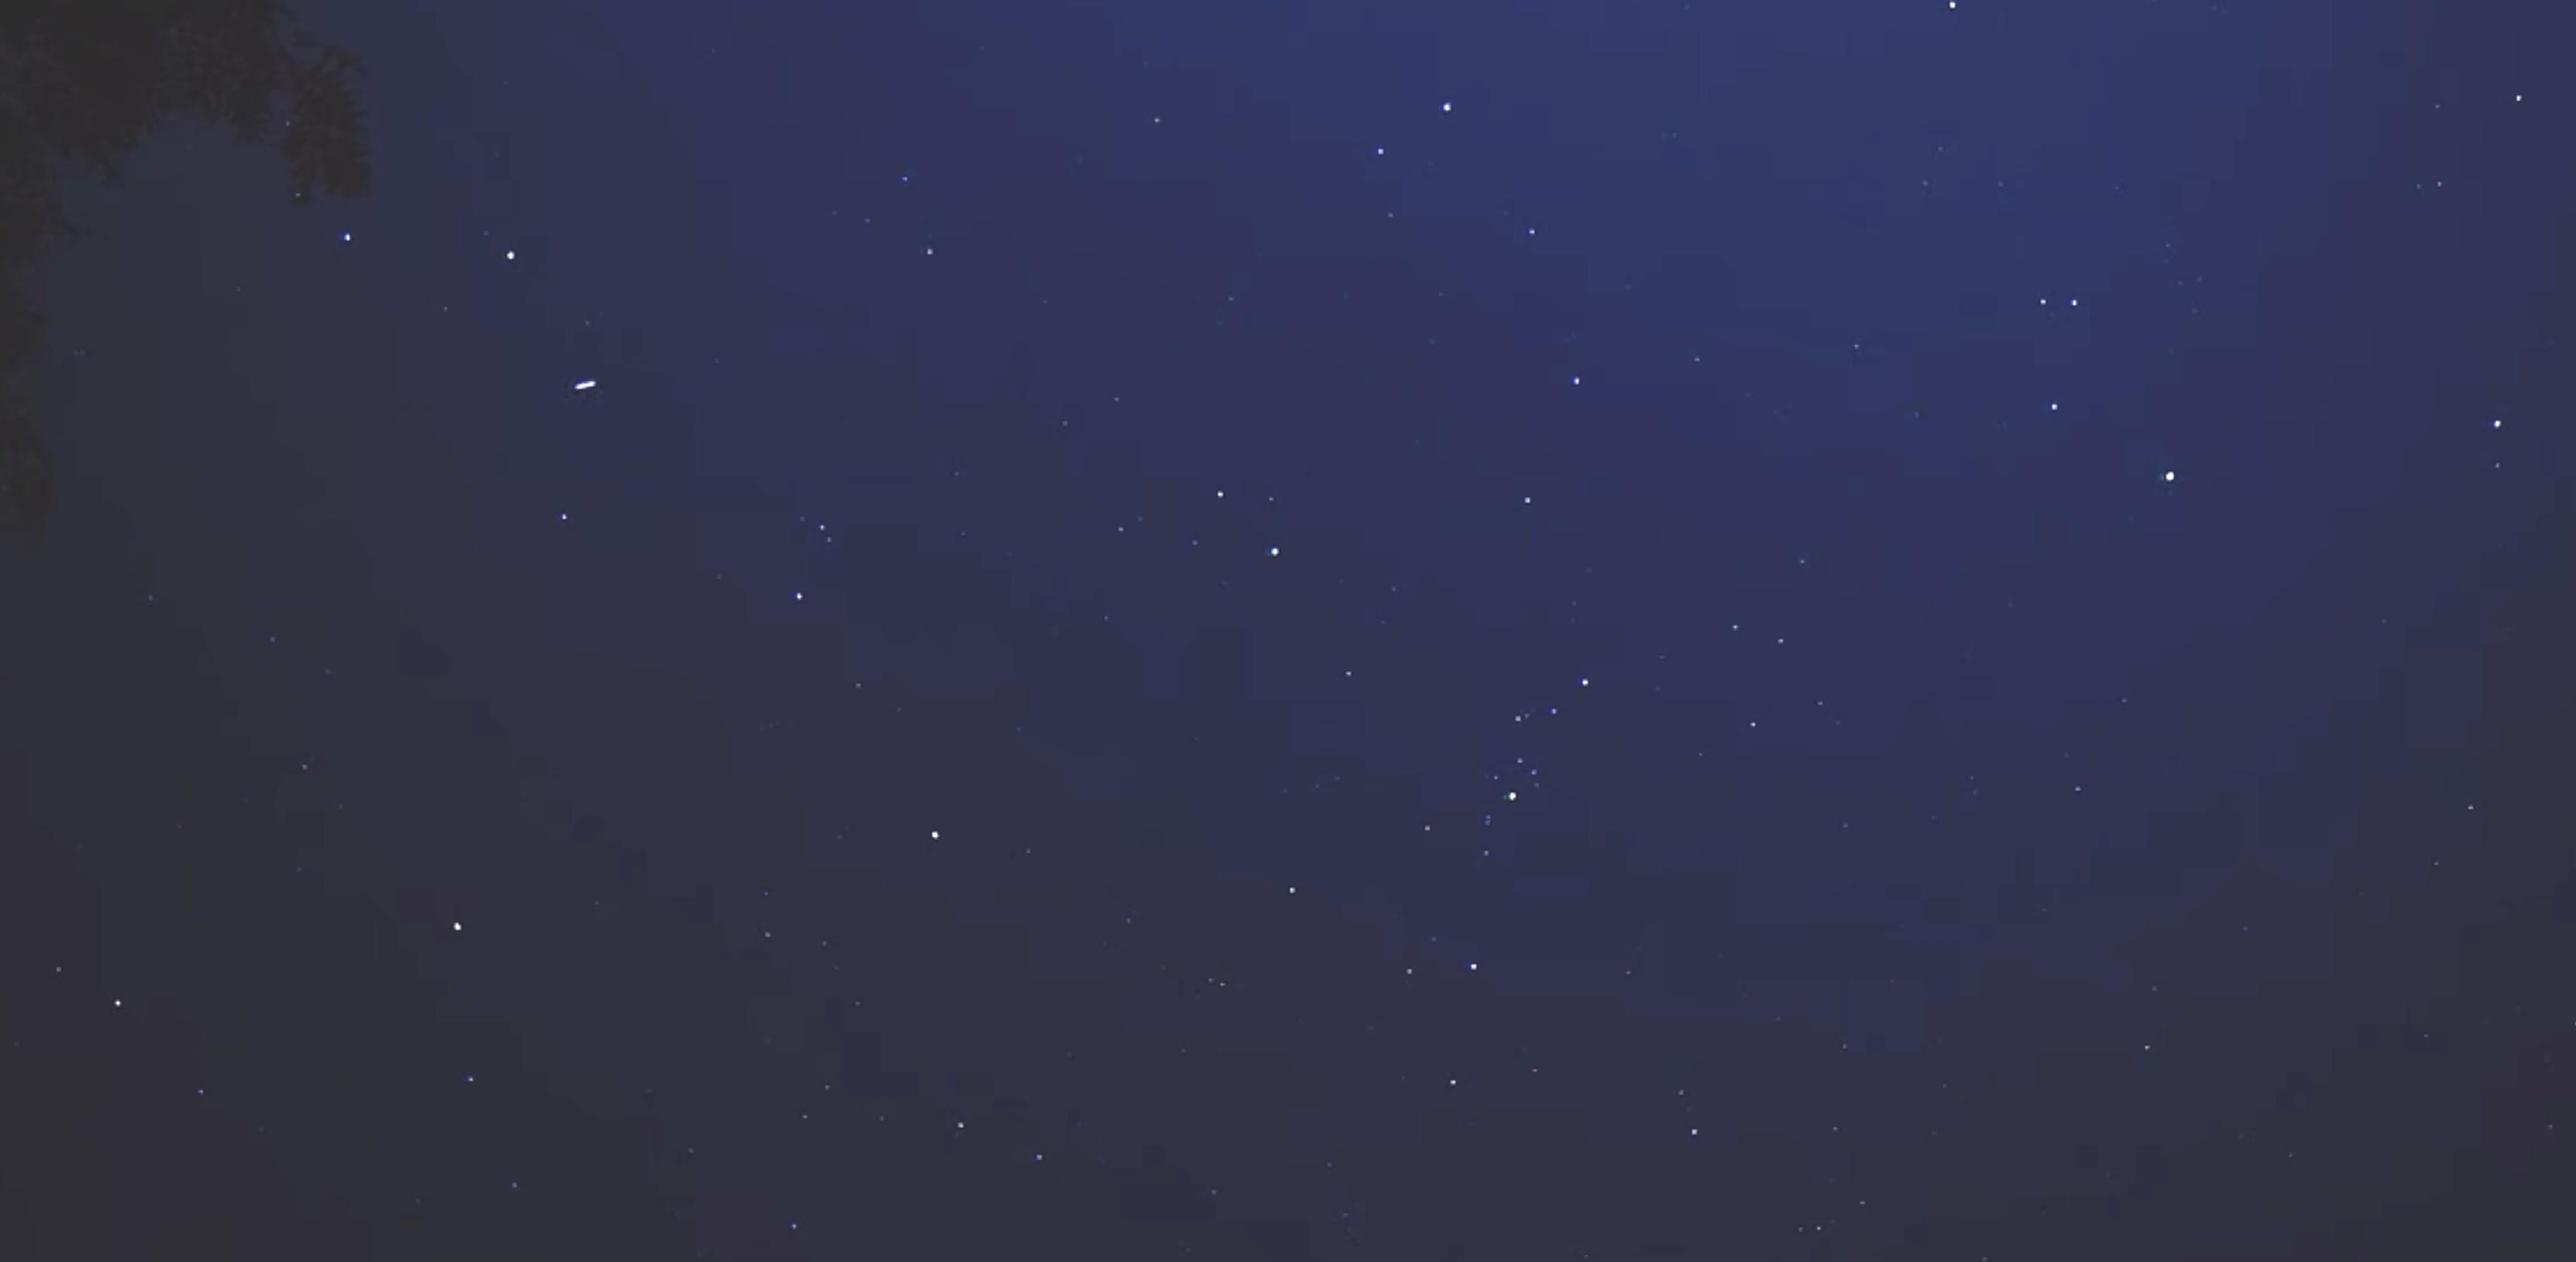meteorite: (552, 365, 621, 401)
